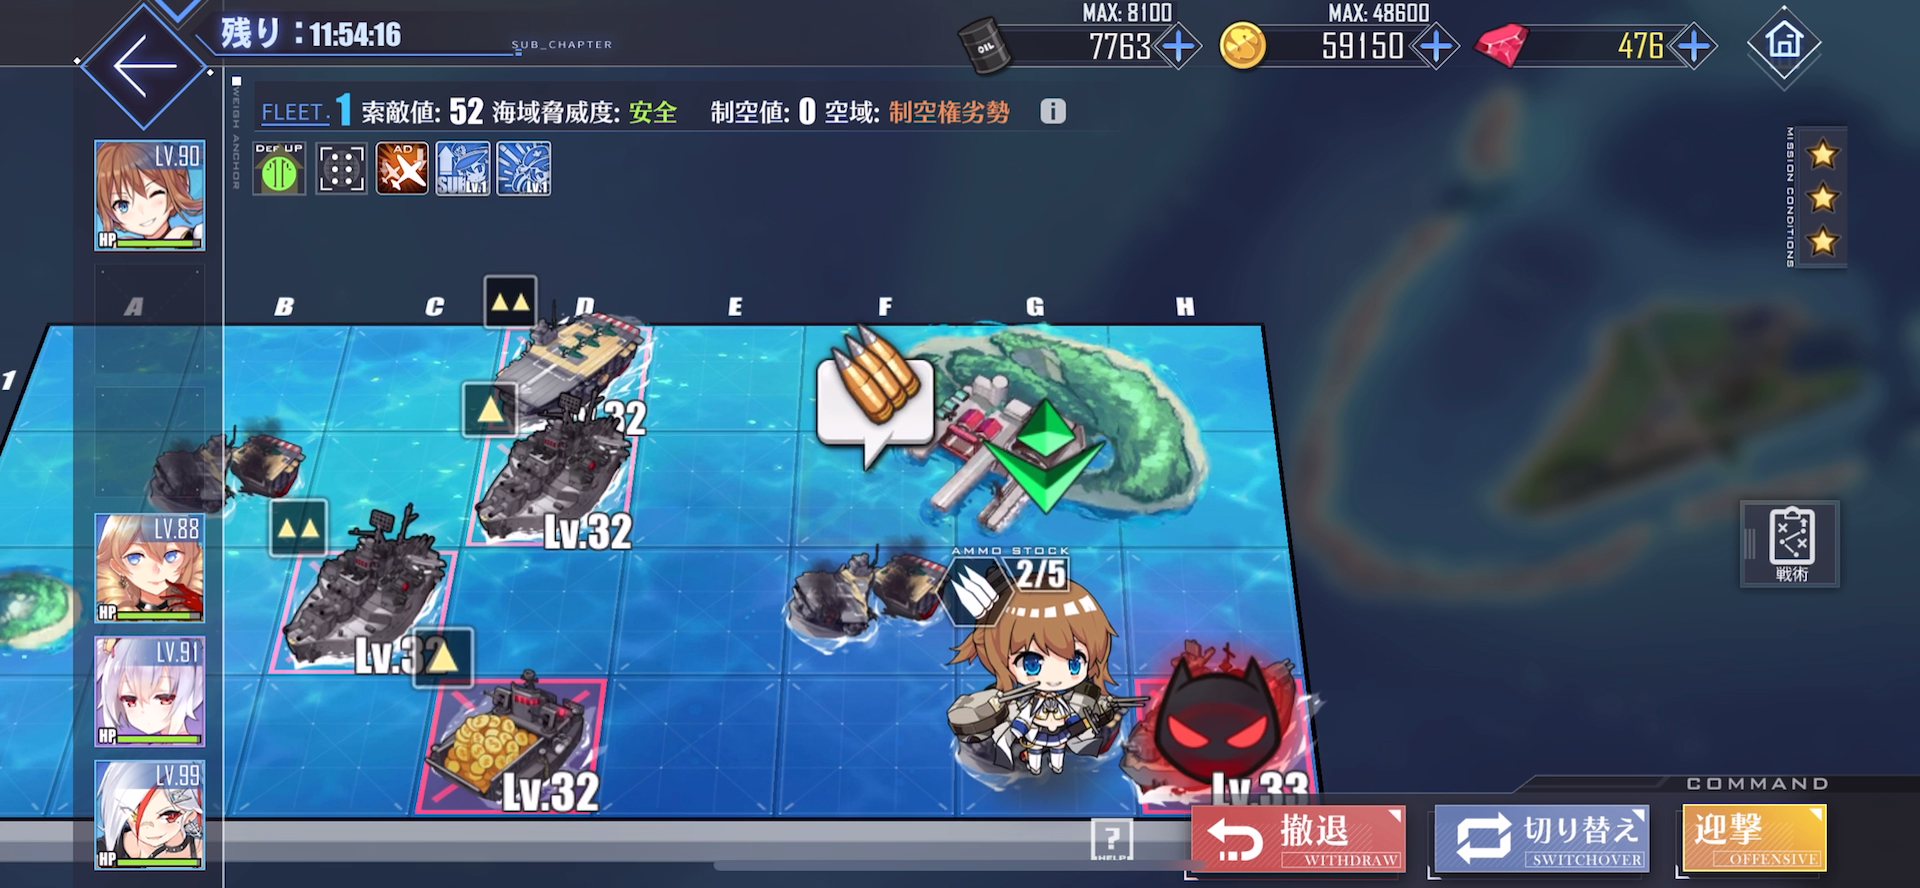boss: (1138, 661, 1319, 819)
